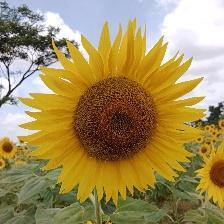sunflower: (21, 17, 210, 202)
